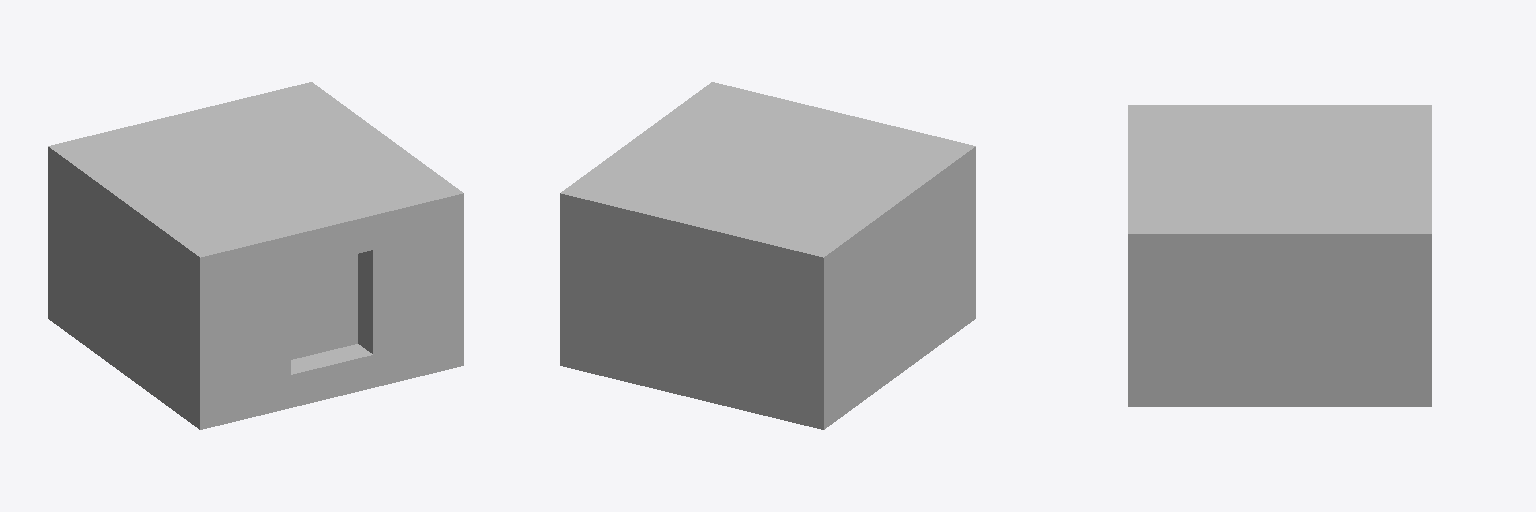
The model's file is building-window.obj.
The picture shows the model from 3 angles: view 1: azimuth 30°, elevation 25°; view 2: azimuth 150°, elevation 25°; view 3: azimuth 270°, elevation 25°; orthographic projection.
Parts seen in each view (by area): view 1: building-window; view 2: building-window; view 3: building-window.
Boxes of the visible parts, x1=… form: building-window: x1=48, y1=82, x2=463, y2=429; building-window: x1=560, y1=82, x2=975, y2=429; building-window: x1=1128, y1=105, x2=1431, y2=406.
Bounding box in the file's own units: 1 × 0.625 × 1.